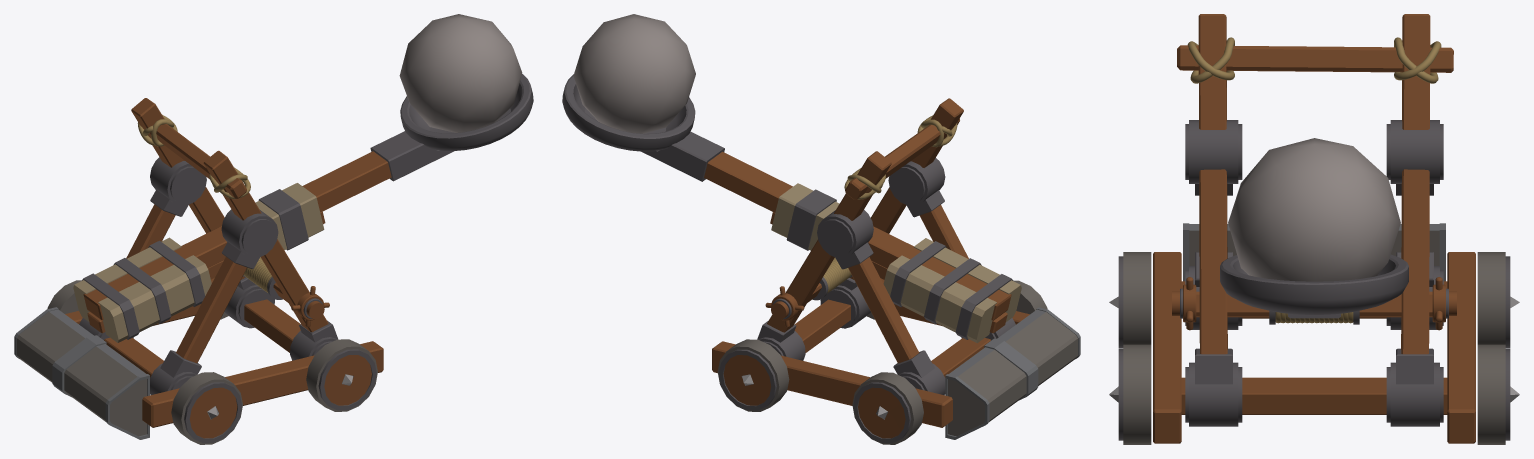
The model's file is katapulta.fbx.
3 views of the same model, side by side, from view 1: azimuth 30°, elevation 25°; view 2: azimuth 150°, elevation 25°; view 3: azimuth 270°, elevation 25° (orthographic). The views are drawn at different scales.
Visible parts, largest first — view 1: base, katapulta, ball, wheels; view 2: base, katapulta, ball, wheels; view 3: base, ball, wheels, katapulta.
Boxes of the visible parts, x1,y1,x2,y2 form: base: (14, 98, 383, 439); katapulta: (73, 74, 533, 342); ball: (399, 14, 522, 132); wheels: (47, 280, 377, 444); base: (712, 98, 1080, 439); katapulta: (562, 74, 1021, 343); ball: (573, 14, 695, 133); wheels: (717, 280, 1047, 444); base: (1153, 14, 1475, 443); ball: (1228, 138, 1400, 281); wheels: (1109, 252, 1519, 444); katapulta: (1220, 254, 1408, 318).
Size of the model in its own units: 817 by 1504 by 924.
